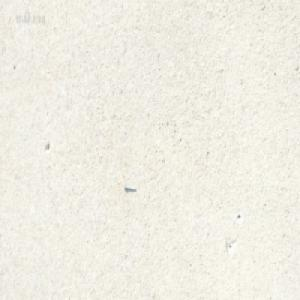Nail: (122, 183, 136, 192)
